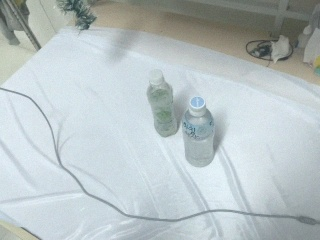bottle: (181, 96, 216, 168), (146, 69, 178, 138)
